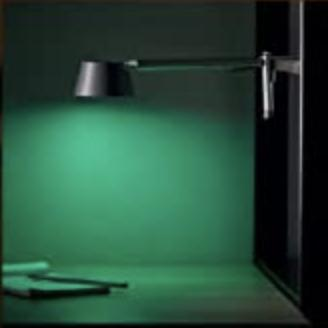Fan: (72, 56, 166, 102)
